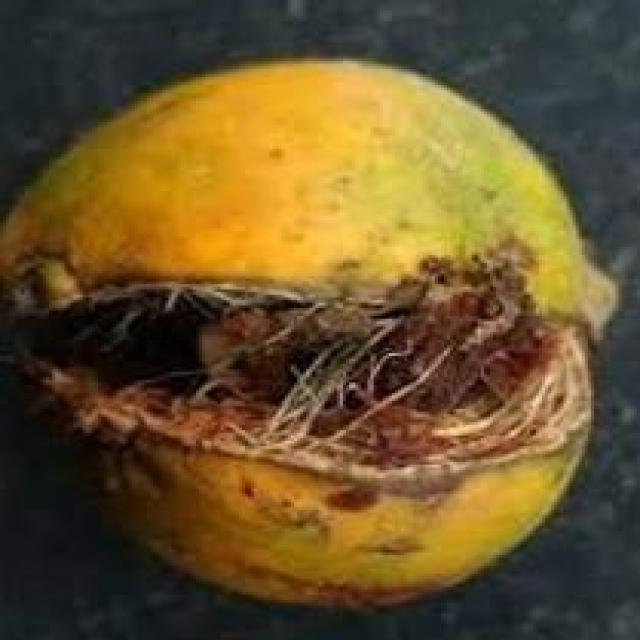damaged: (0, 61, 619, 619)
